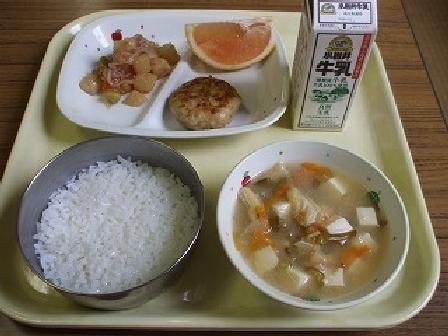Citrus: (183, 13, 287, 68)
Milk: (282, 2, 388, 133)
Rice: (25, 136, 210, 305)
Soups: (232, 153, 402, 295)
cutlet: (162, 71, 248, 146)
vegetable based cooked food: (80, 30, 175, 112)
